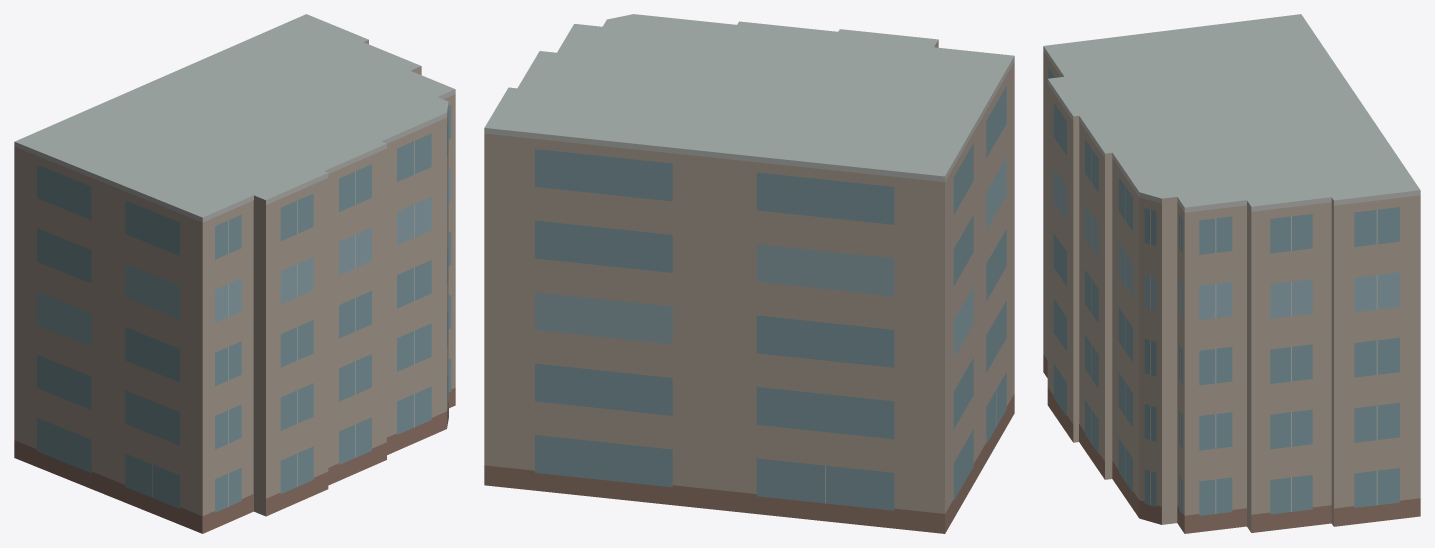
The model's file is survey-upis-32771195.glb.
3 renders of one model, left to right at view 1: azimuth 30°, elevation 25°; view 2: azimuth 150°, elevation 25°; view 3: azimuth 270°, elevation 25°, orthographic. The views are drawn at different scales.
Parts seen in each view (by area): view 1: survey-upis-32771195.tmp; view 2: survey-upis-32771195.tmp; view 3: survey-upis-32771195.tmp.
Boxes of the visible parts, x1=… form: survey-upis-32771195.tmp: x1=14, y1=14, x2=455, y2=533; survey-upis-32771195.tmp: x1=484, y1=14, x2=1014, y2=533; survey-upis-32771195.tmp: x1=1043, y1=14, x2=1420, y2=533.
Size of the model in its own units: 19.76 by 15.52 by 16.27.
